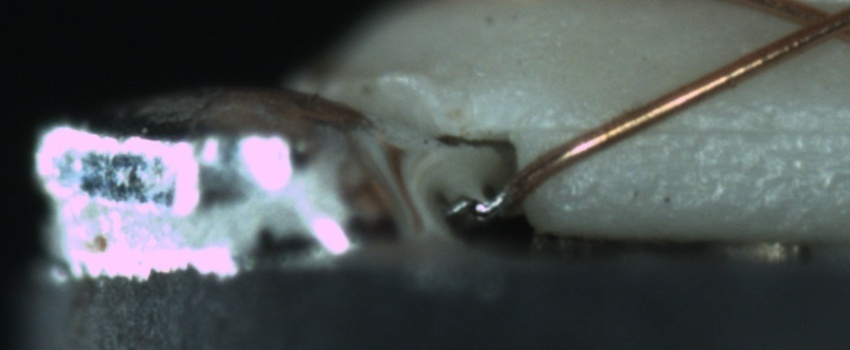CL: (777, 1, 850, 47)
DL: (544, 97, 849, 160)
